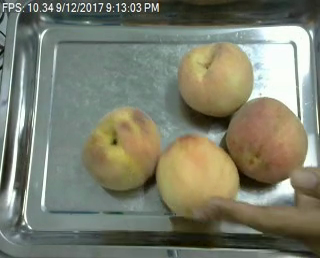Peach: (225, 96, 307, 183), (84, 105, 162, 192), (157, 134, 235, 218), (176, 41, 254, 116)
